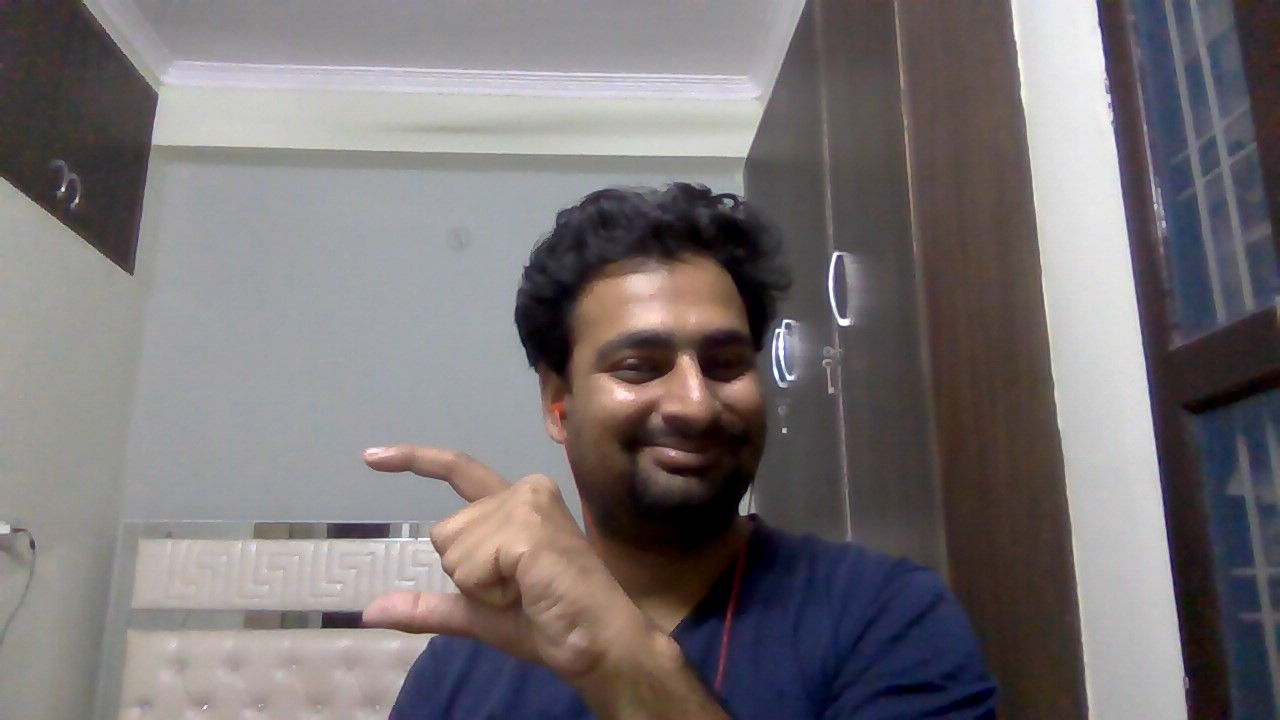Paste: (345, 430, 643, 707)
